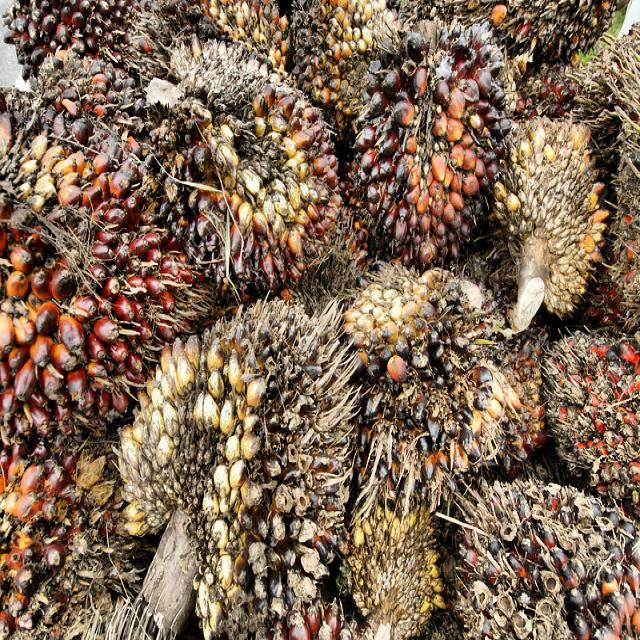FFB: (0, 124, 232, 439), (125, 312, 347, 634), (133, 44, 341, 300), (344, 271, 510, 527), (360, 20, 515, 279), (461, 479, 640, 640), (486, 126, 601, 317), (544, 335, 640, 522)
